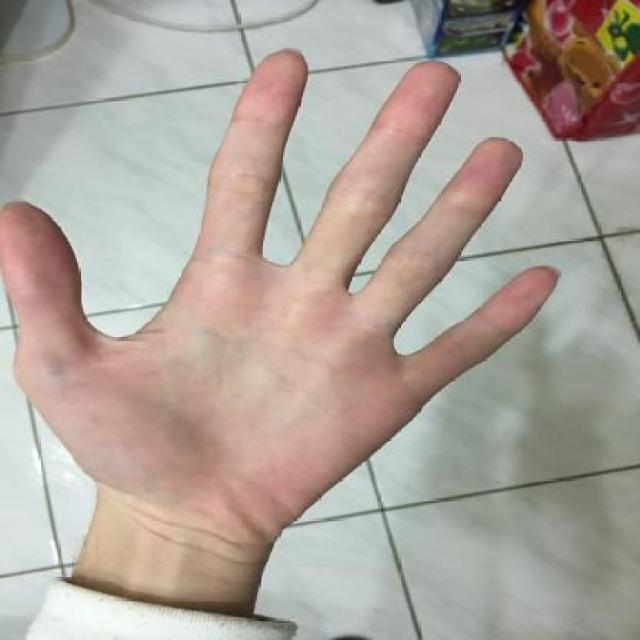bare_hand: (0, 29, 571, 638)
